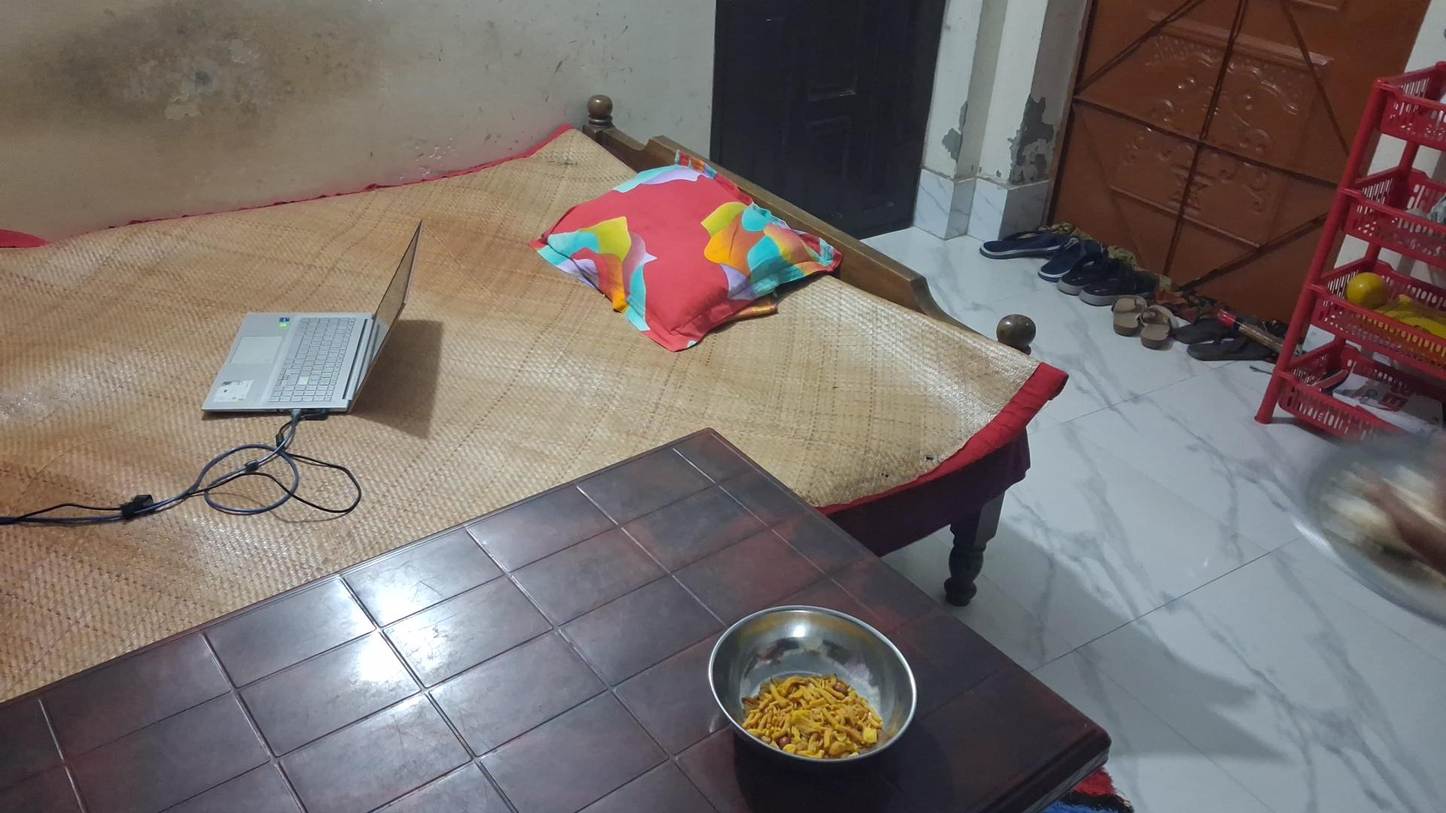Bowl: (708, 605, 918, 773)
Food: (748, 665, 870, 760)
Footwear: (981, 225, 1100, 285), (1060, 258, 1159, 305), (1114, 296, 1176, 349)
Laptop: (201, 220, 422, 417)
Pillow: (541, 168, 841, 347)
Rack: (1256, 67, 1446, 524)
Table: (0, 419, 1111, 813)
